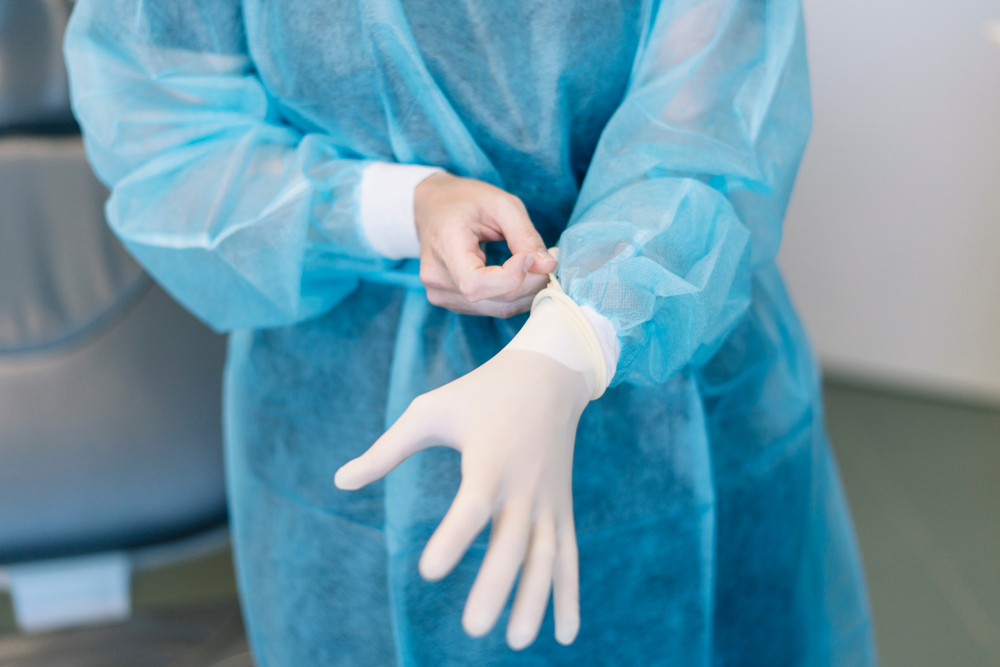Gloves: (324, 292, 629, 652)
